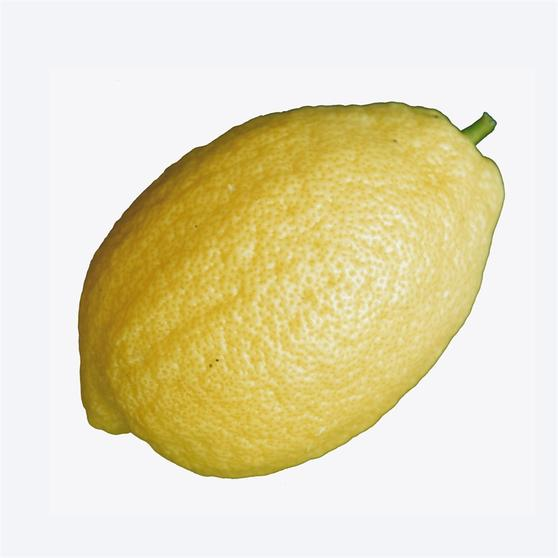lemon: (75, 103, 506, 481)
